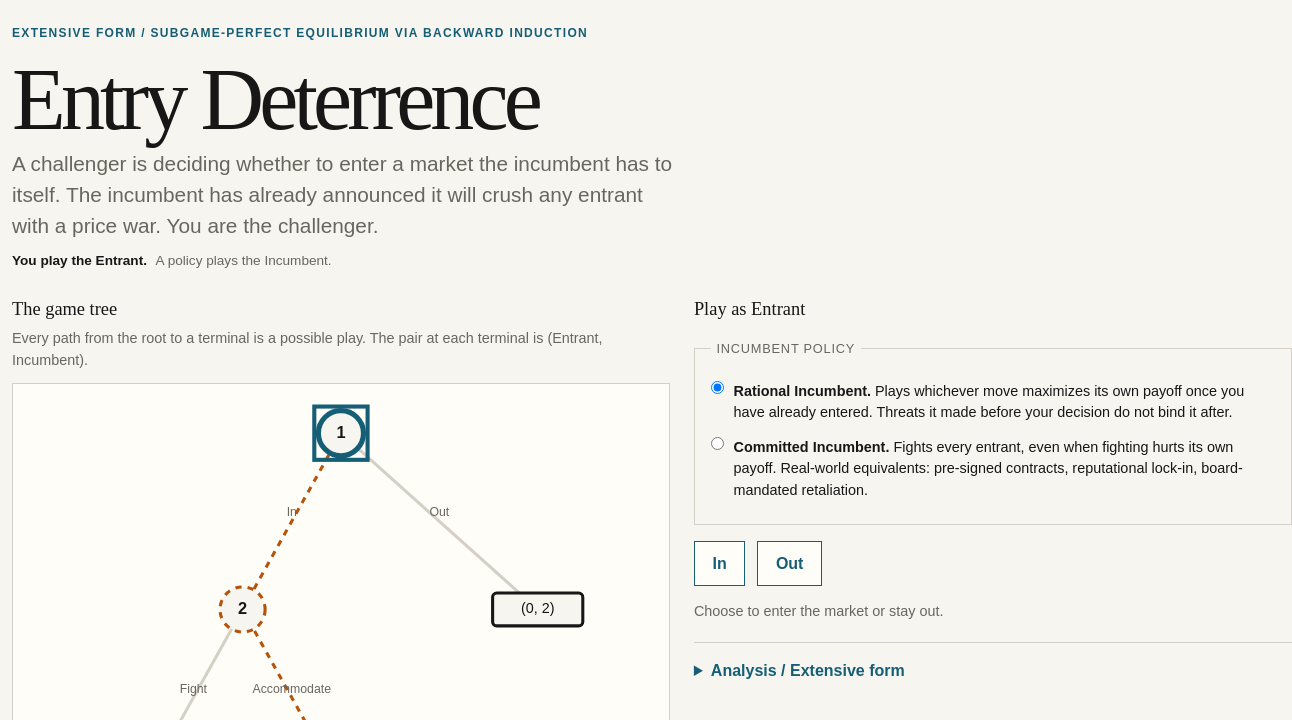
Test: extensive-form play surface — entry deterrence › play again resets the session and re-enables the buttons
Click the button "In".
click(720, 564)  # box [694,541,745,586]
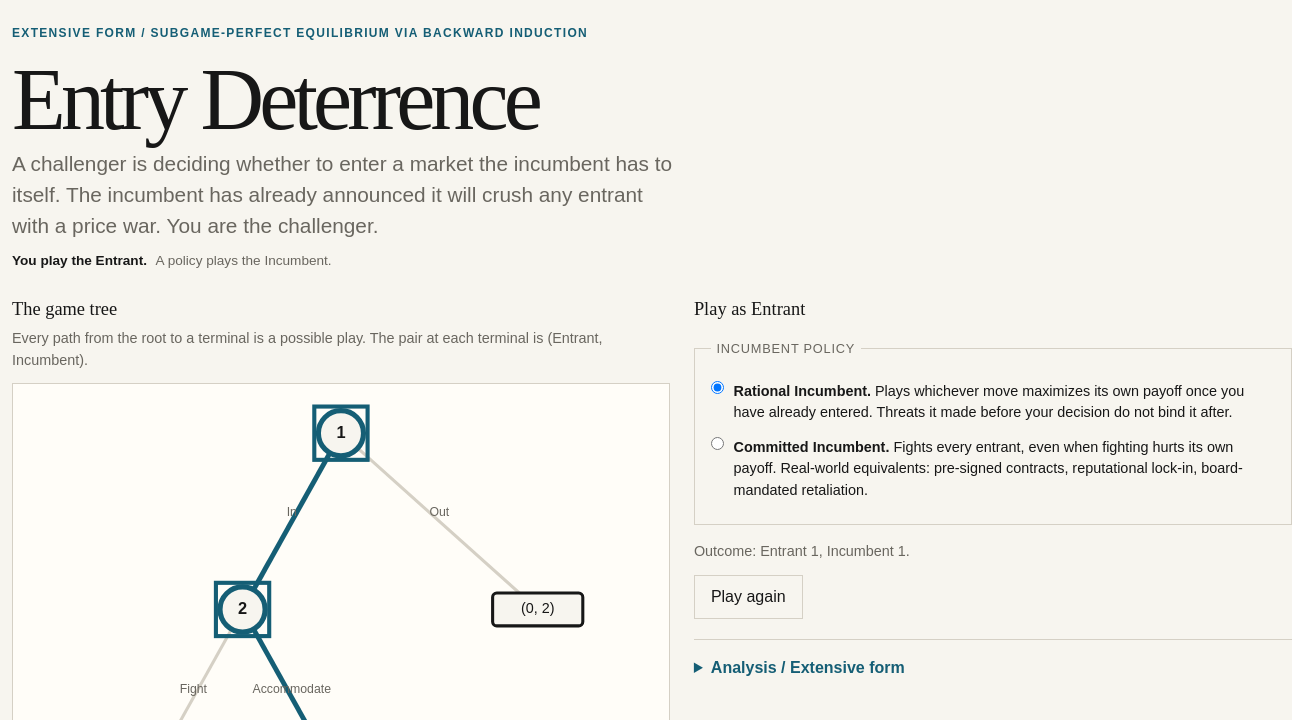
Click the button "Play again".
click(748, 597)  # box [694,575,803,619]
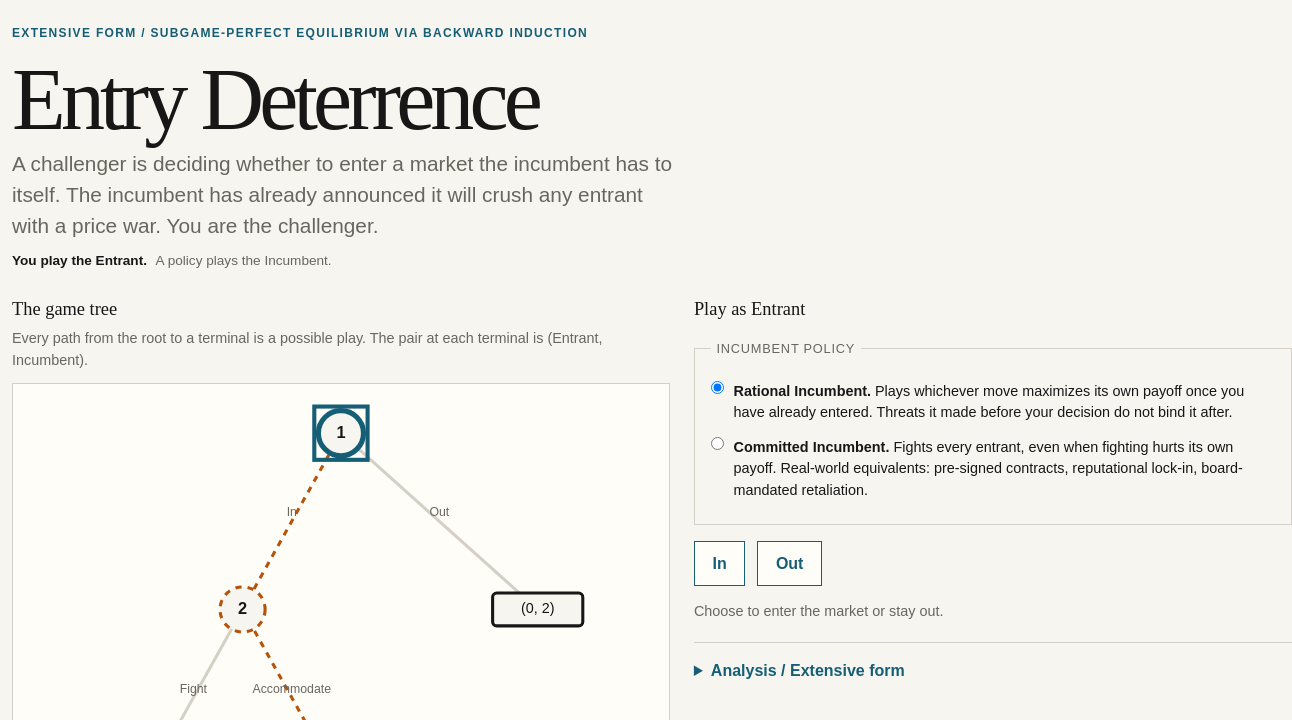
Expected: the button "In" is shown, [694,541,745,586]
Expected: the text "Choose to enter the market or stay out." is shown, [694,603,944,619]
Expected: the button "Out" is shown, [757,541,822,586]
